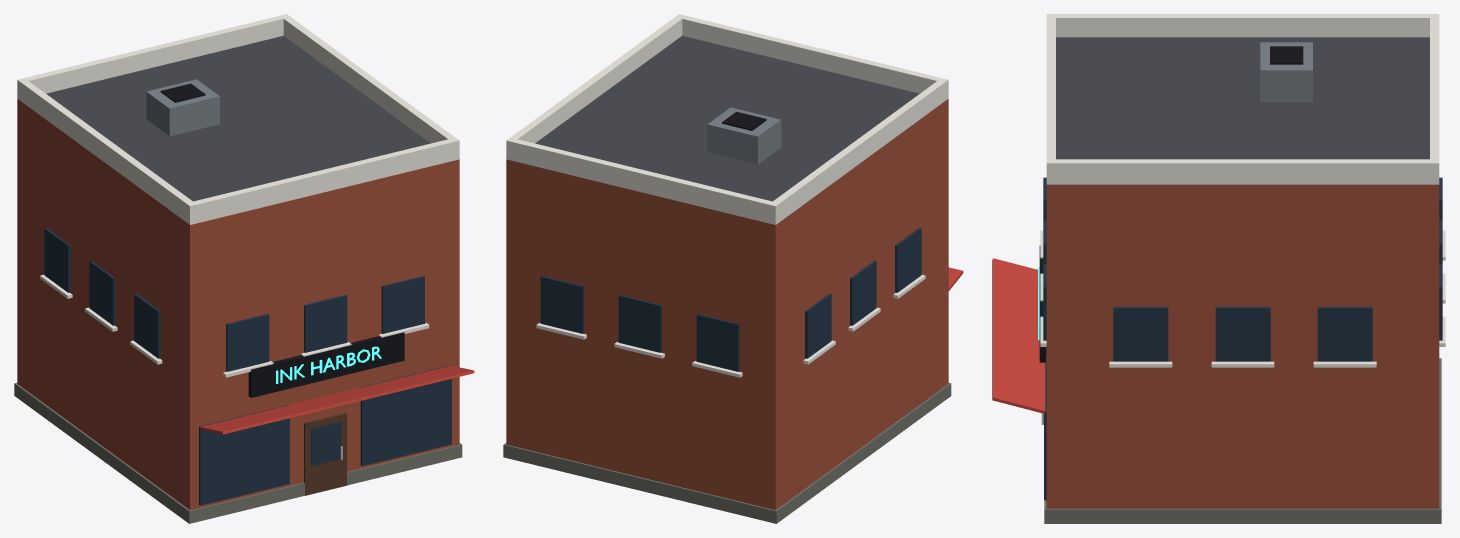
File: shop_tattoo.glb
The picture shows the model from 3 angles, left to right: view 1: azimuth 30°, elevation 25°; view 2: azimuth 150°, elevation 25°; view 3: azimuth 270°, elevation 25°; orthographic projection. The views are drawn at different scales.
Visible parts, largest first — view 1: shop_tattoo_Body, shop_tattoo_SignBoard, shop_tattoo_Sign; view 2: shop_tattoo_Body; view 3: shop_tattoo_Body.
Boxes of the visible parts, x1=… form: shop_tattoo_Body: x1=14, y1=14, x2=474, y2=523; shop_tattoo_SignBoard: x1=248, y1=332, x2=404, y2=397; shop_tattoo_Sign: x1=276, y1=346, x2=381, y2=383; shop_tattoo_Body: x1=503, y1=14, x2=963, y2=523; shop_tattoo_Body: x1=992, y1=14, x2=1445, y2=523.
Bounding box in the file's own units: 9.32 × 10.49 × 11.54.
